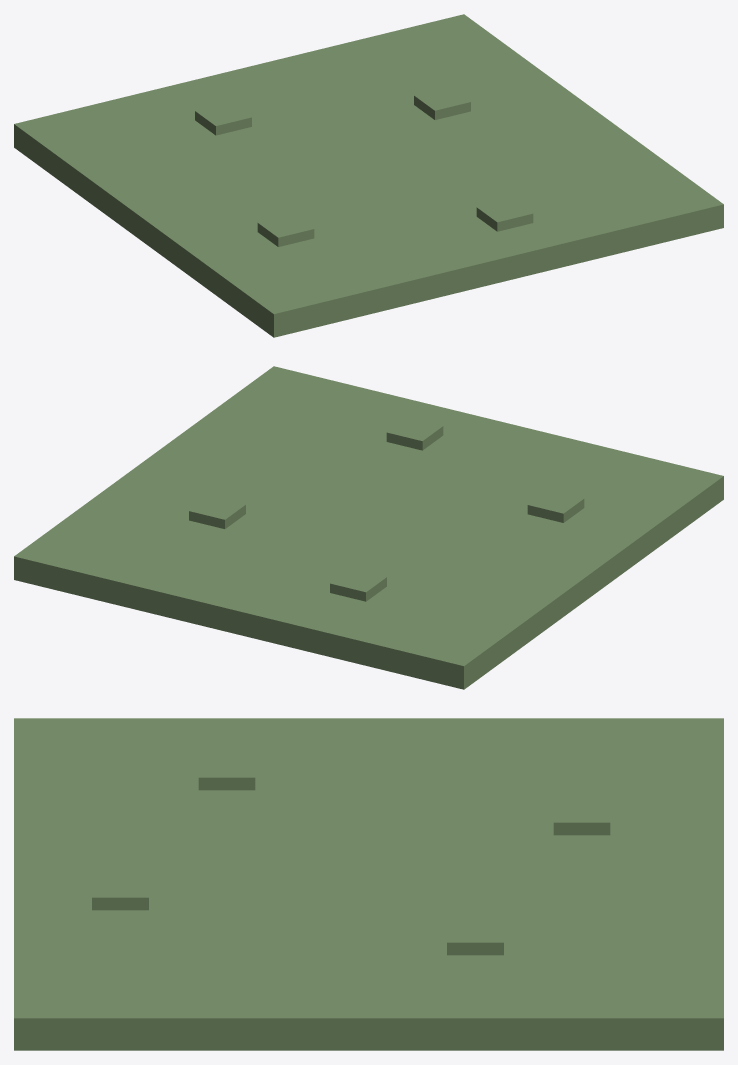
The model's file is floor_grass.glb.
3 views of the same model, one above another, from view 1: azimuth 30°, elevation 25°; view 2: azimuth 150°, elevation 25°; view 3: azimuth 270°, elevation 25° (orthographic). The views are drawn at different scales.
Visible parts, largest first — view 1: floor_grass; view 2: floor_grass; view 3: floor_grass.
Part boxes in pixels (box(x1,y1,x2,y2)): floor_grass: box(14, 14, 723, 337); floor_grass: box(14, 366, 723, 689); floor_grass: box(14, 718, 723, 1050).
Size of the model in its own units: 1 by 0.07 by 1.
